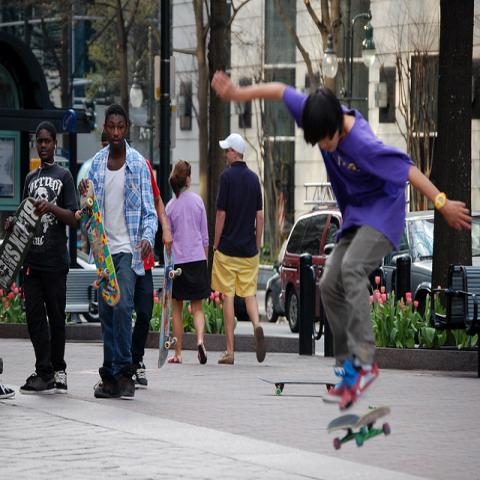car: (378, 209, 479, 324), (278, 209, 343, 333), (266, 262, 286, 326), (256, 267, 275, 316), (75, 247, 90, 269)
